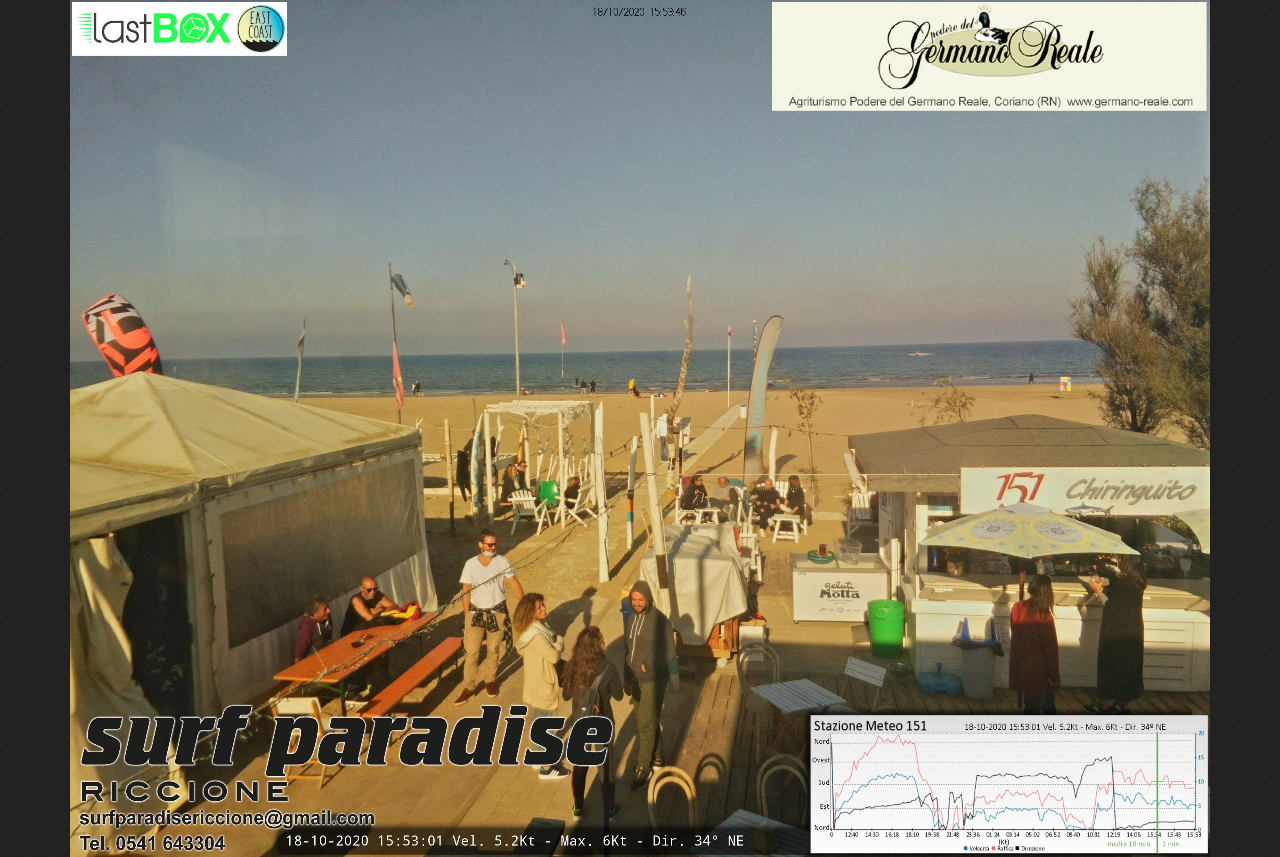no: (386, 339, 406, 409), (555, 319, 566, 347)
